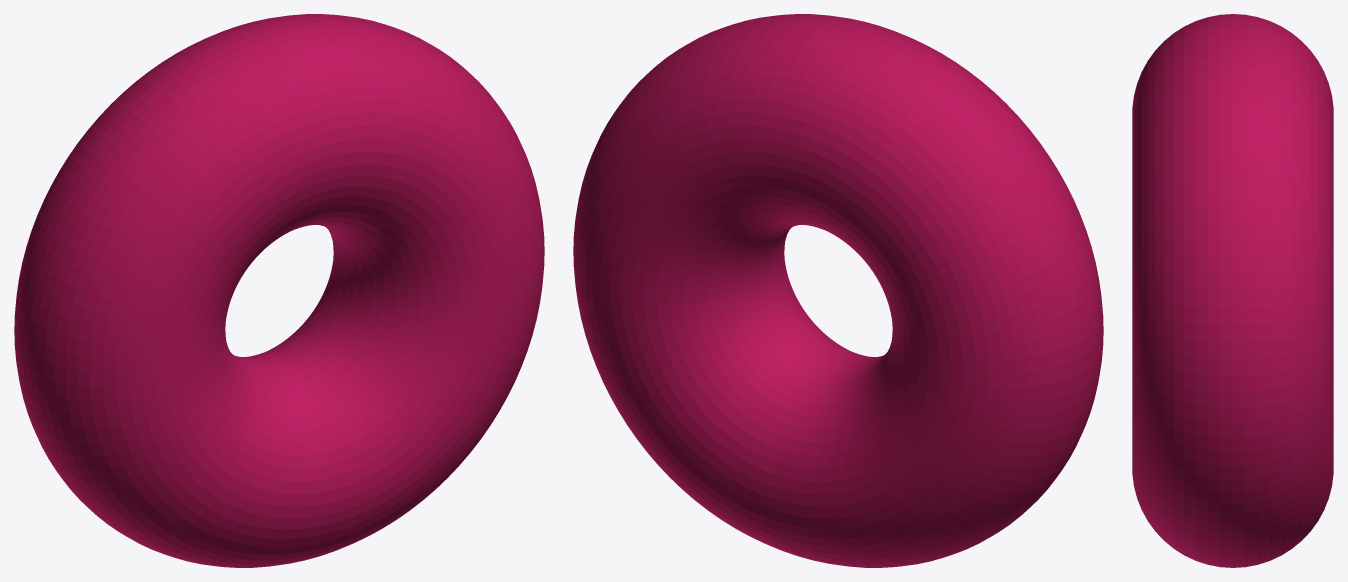
The picture shows the model from 3 angles, left to right: view 1: azimuth 30°, elevation 25°; view 2: azimuth 150°, elevation 25°; view 3: azimuth 270°, elevation 25°; orthographic projection. The views are drawn at different scales.
Parts seen in each view (by area): view 1: world; view 2: world; view 3: world.
Boxes of the visible parts, x1,y1,x2,y2 form: world: (14, 14, 544, 567); world: (573, 14, 1103, 567); world: (1132, 14, 1333, 567).
Bounding box in the file's own units: 23.07 × 23.07 × 8.38.
